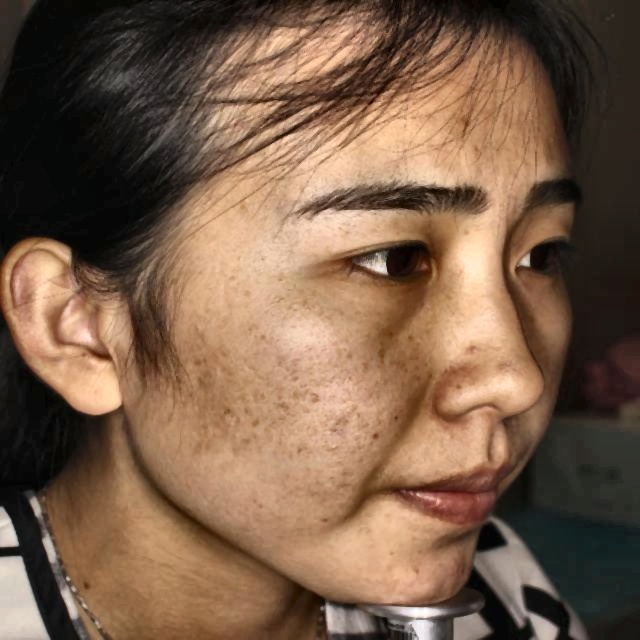comedone: (325, 404, 355, 431), (462, 337, 488, 362)
